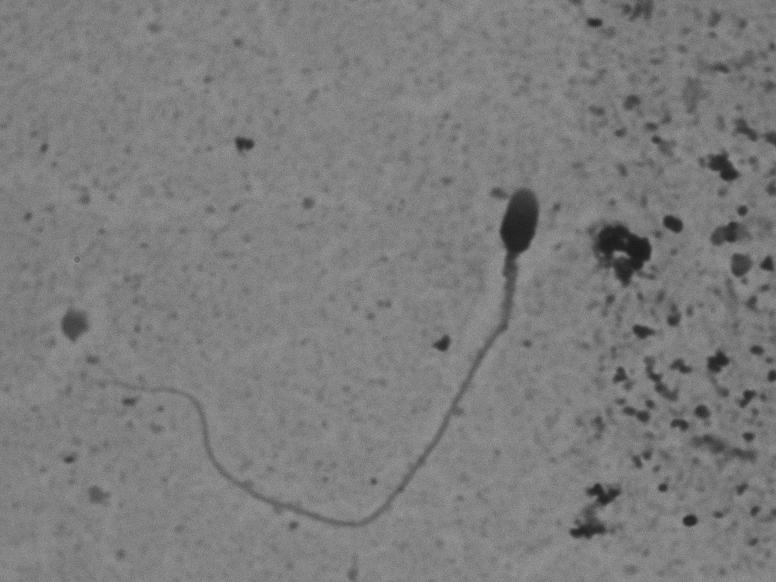Abnormal: (94, 166, 552, 559)
